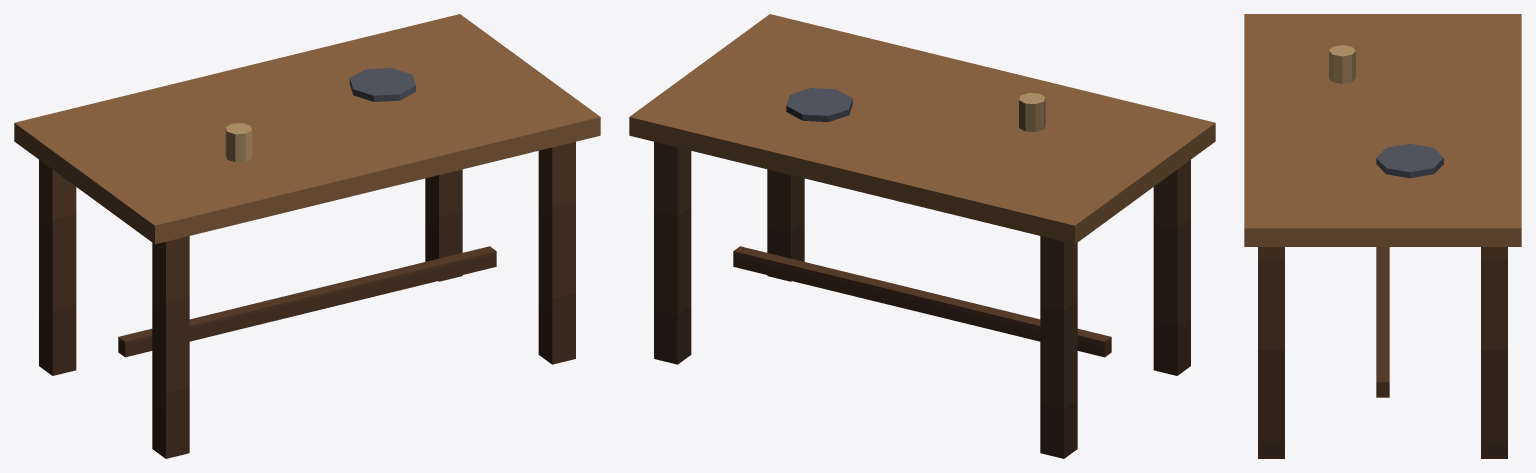
The model's file is table.glb.
3 views of the same model, side by side, from view 1: azimuth 30°, elevation 25°; view 2: azimuth 150°, elevation 25°; view 3: azimuth 270°, elevation 25° (orthographic).
Size of the model in its own units: 1.5 by 0.87 by 0.82.
1 material, 1 textured.
